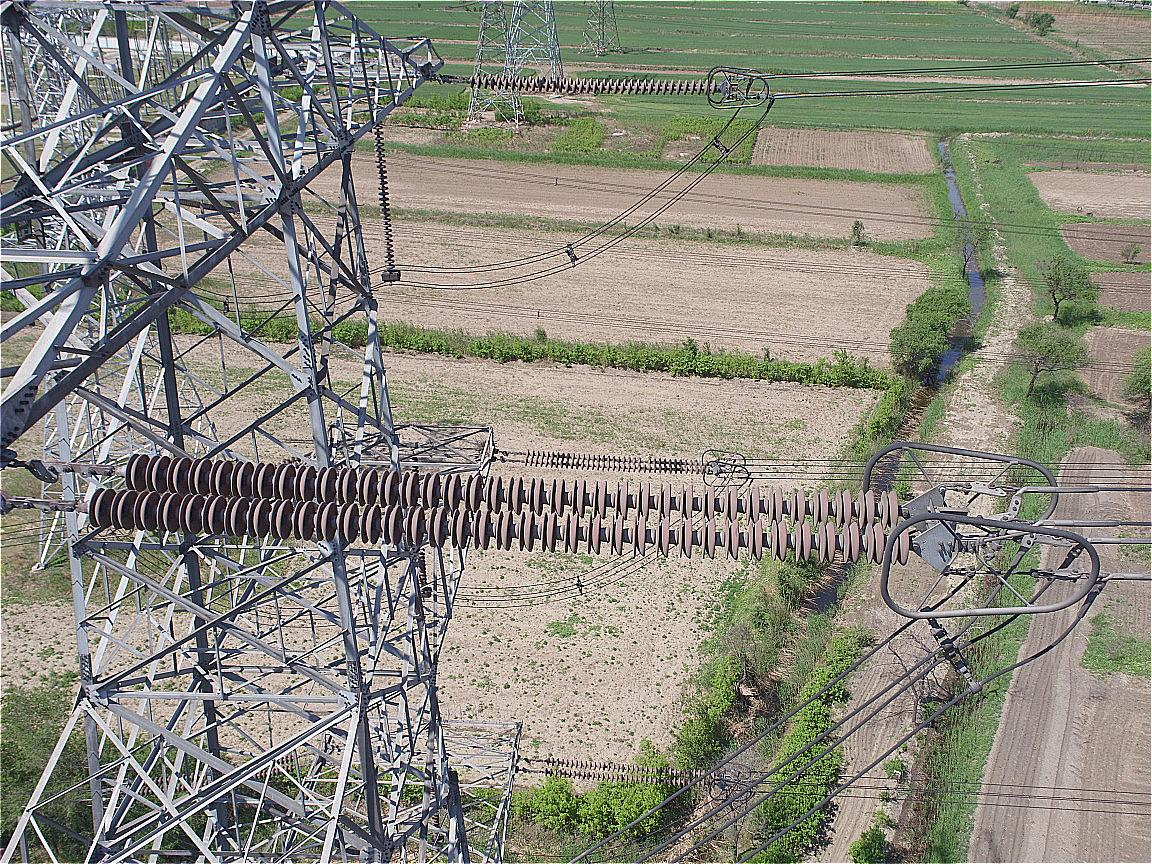insultor1: (468, 59, 722, 107), (520, 433, 713, 478)
insultor2: (72, 441, 941, 580)
